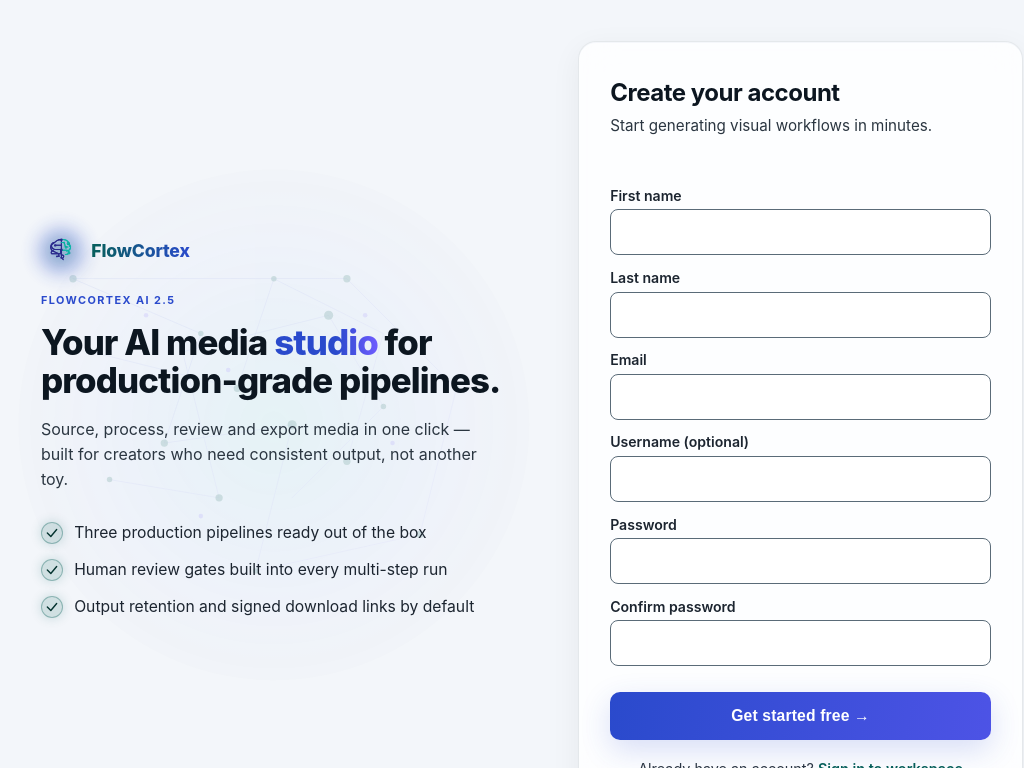
Scenario: RegisterPage › refuses an email without @ at the email field
Step 1. Type "An" into the field labelled "First name" → (801, 232), box [610,210,991,256]
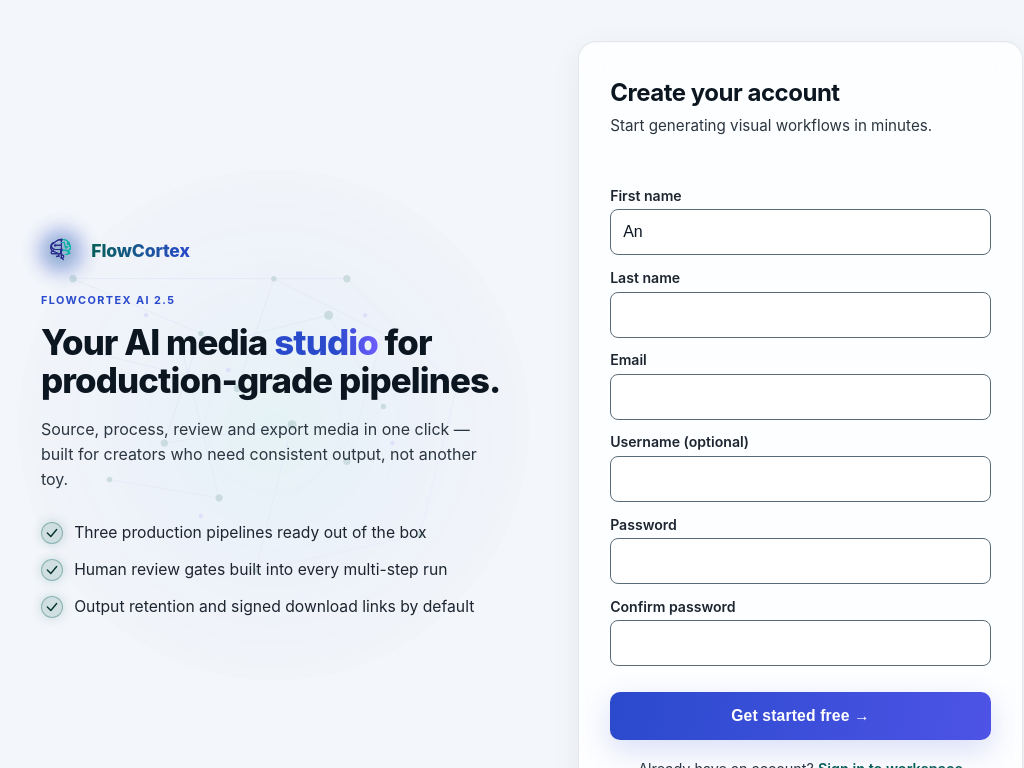
Step 2. Type "Tran" into the field labelled "Last name" → (801, 315), box [610,292,991,338]
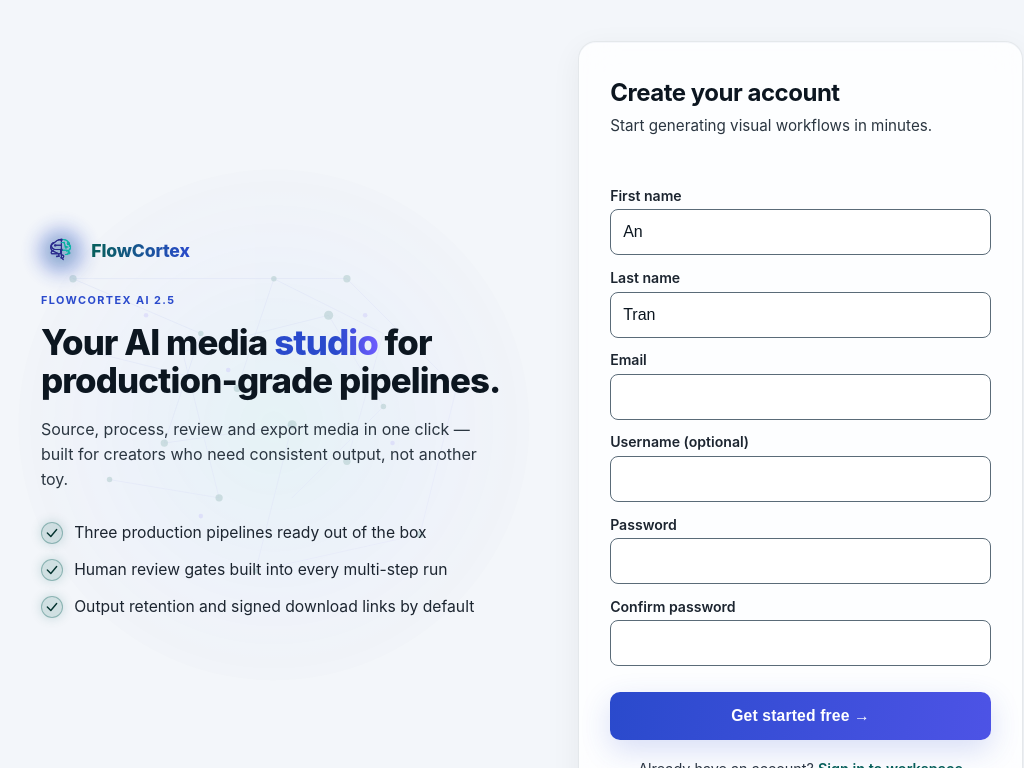
Step 3. Type "an.example.com" into the field labelled "Email" → (801, 397), box [610,374,991,420]
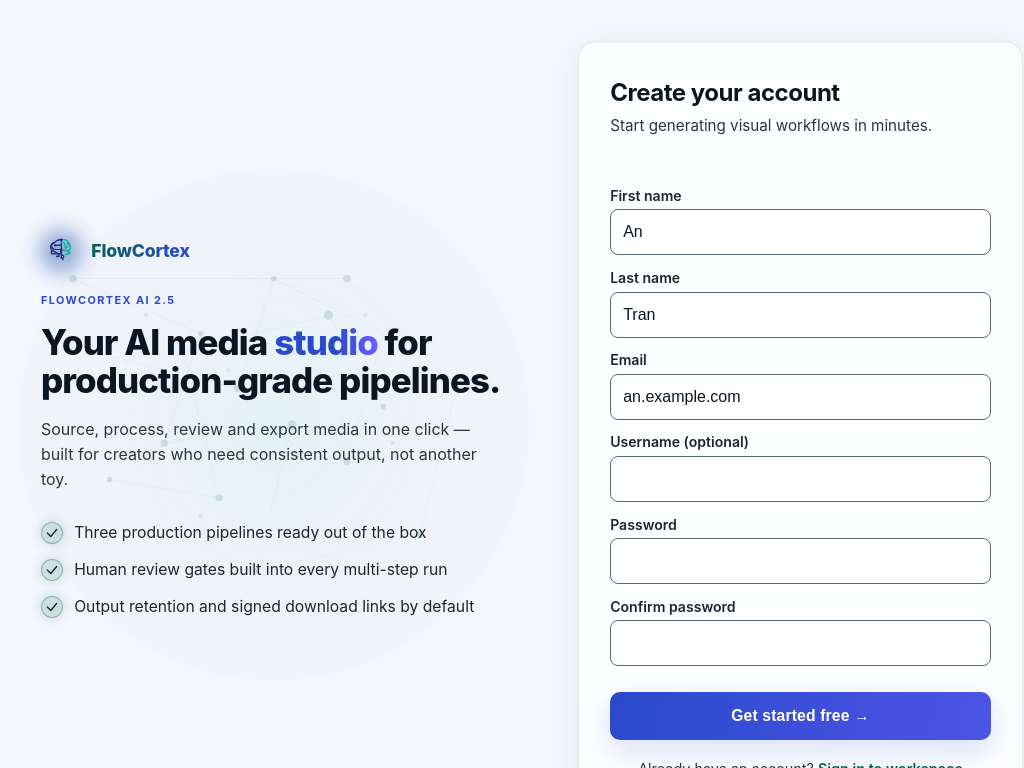
Step 4. Type "Secret123" into the password field labelled "Password" → (801, 561), box [610,538,991,584]
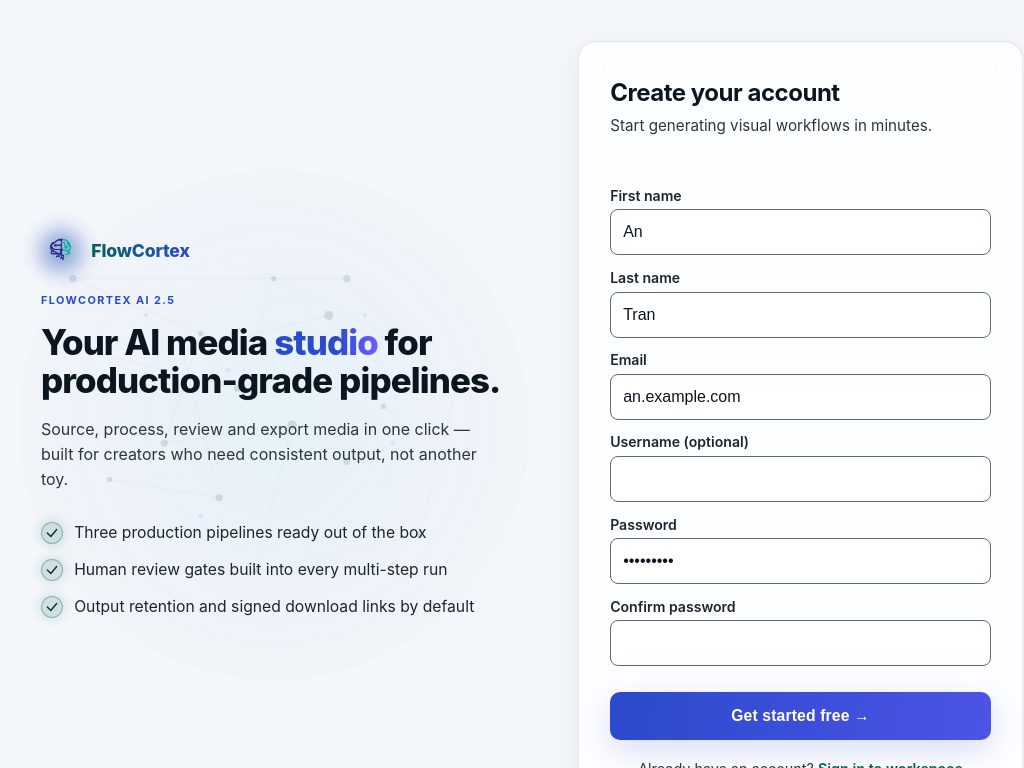
Step 5. Type "Secret123" into the password field labelled "Confirm password" → (801, 643), box [610,620,991,666]
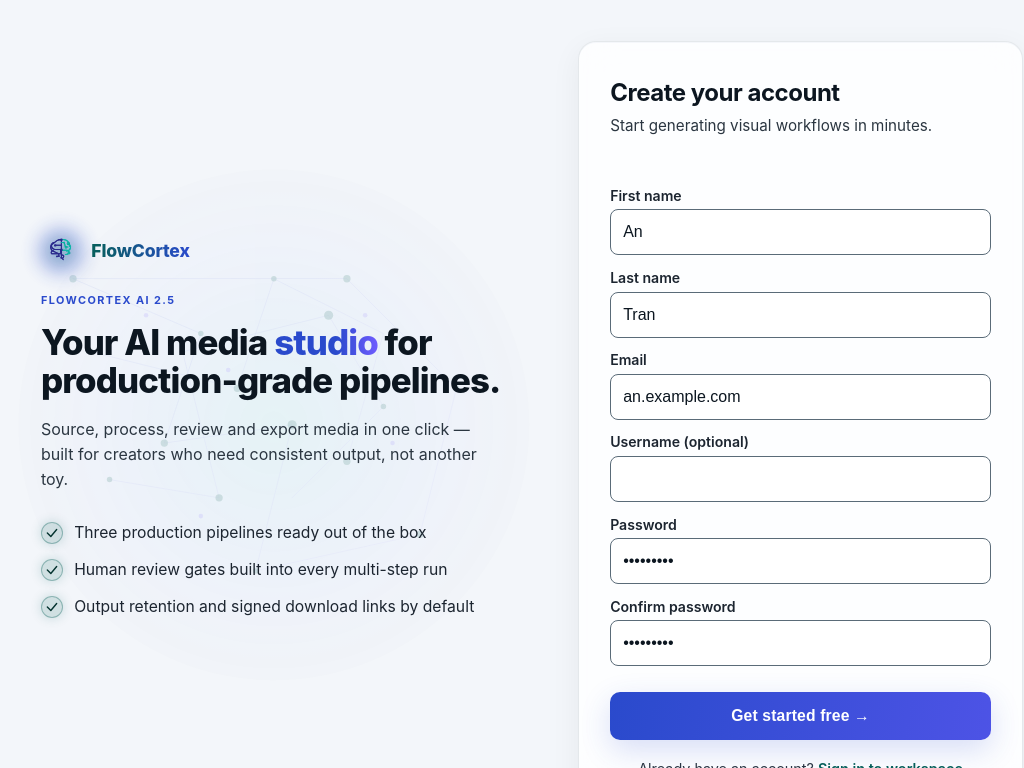
Step 6. Click the button "Get started free →" → (801, 716), box [610,692,991,740]
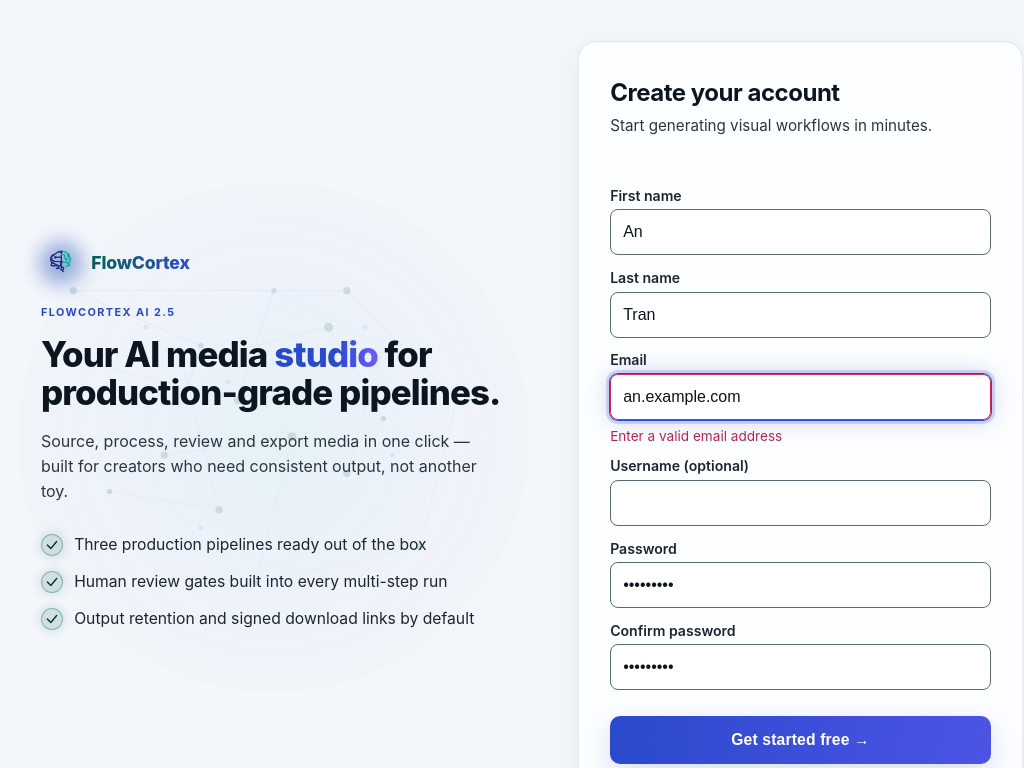
Result: the text "Enter a valid email address" is shown at [610,428,782,444]
